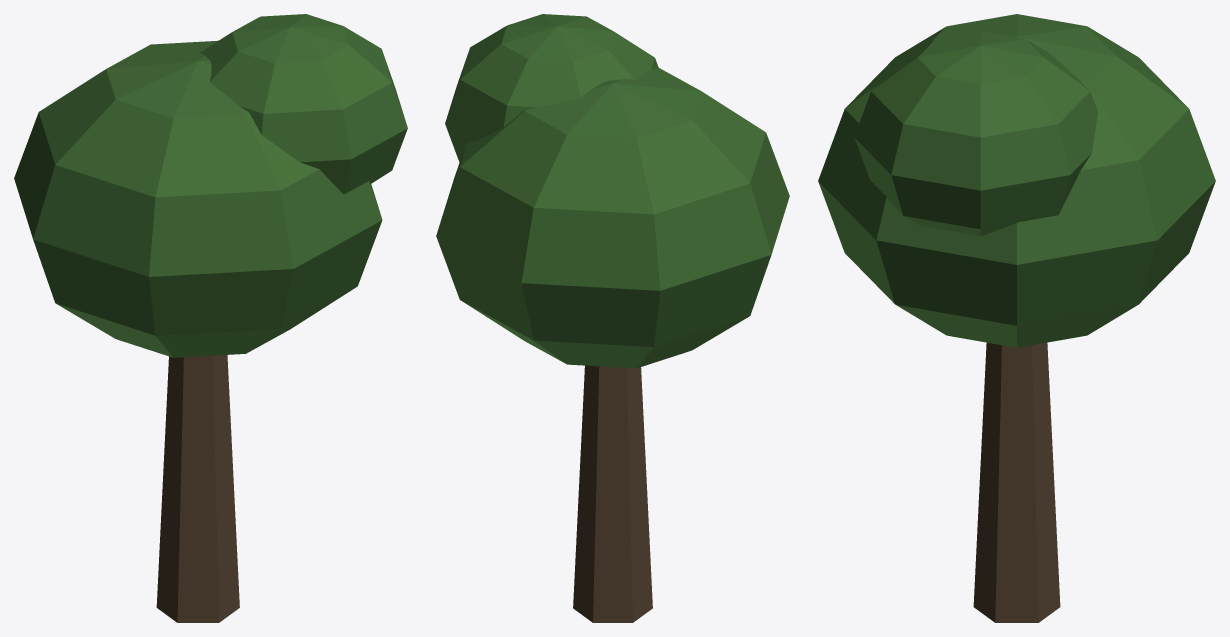
Rendered from tree-oak.glb.
The picture shows the model from 3 angles, left to right: view 1: azimuth 30°, elevation 25°; view 2: azimuth 150°, elevation 25°; view 3: azimuth 270°, elevation 25°; orthographic projection. The views are drawn at different scales.
Parts seen in each view (by area): view 1: canopy, canopy_top, trunk; view 2: canopy, trunk, canopy_top; view 3: canopy, canopy_top, trunk.
Boxes of the visible parts, <box> form: canopy: <box>14,40,382,357</box>; canopy_top: <box>200,14,407,194</box>; trunk: <box>156,355,239,622</box>; canopy: <box>436,67,789,368</box>; trunk: <box>573,365,652,622</box>; canopy_top: <box>445,14,658,163</box>; canopy: <box>818,14,1215,347</box>; canopy_top: <box>854,31,1097,236</box>; trunk: <box>973,342,1060,622</box>.
Bounding box in the file's own units: 1.15 × 1.83 × 1.1.
